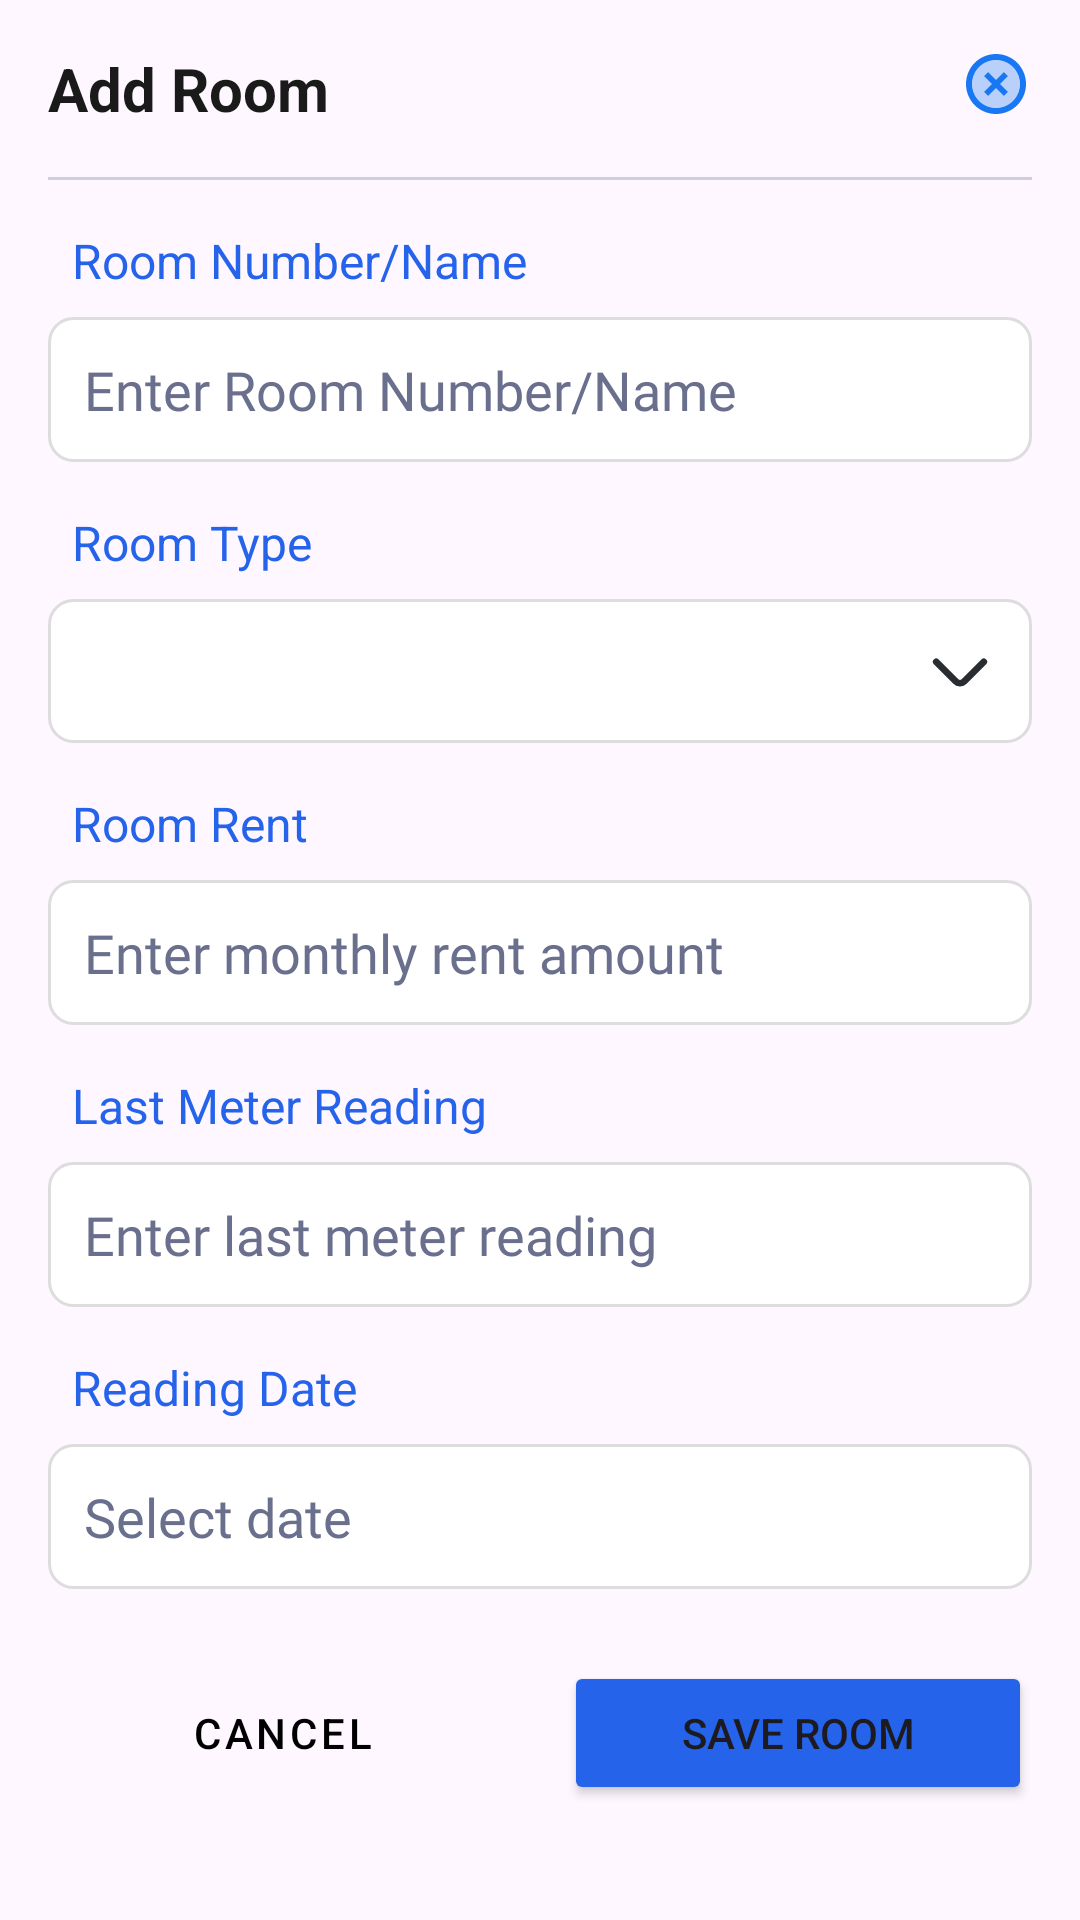

Screen size 1080×1920. Icon name, then its center in pixels as [x,y]:
Close: [996,84]
Dropdown Icon: [960,672]
